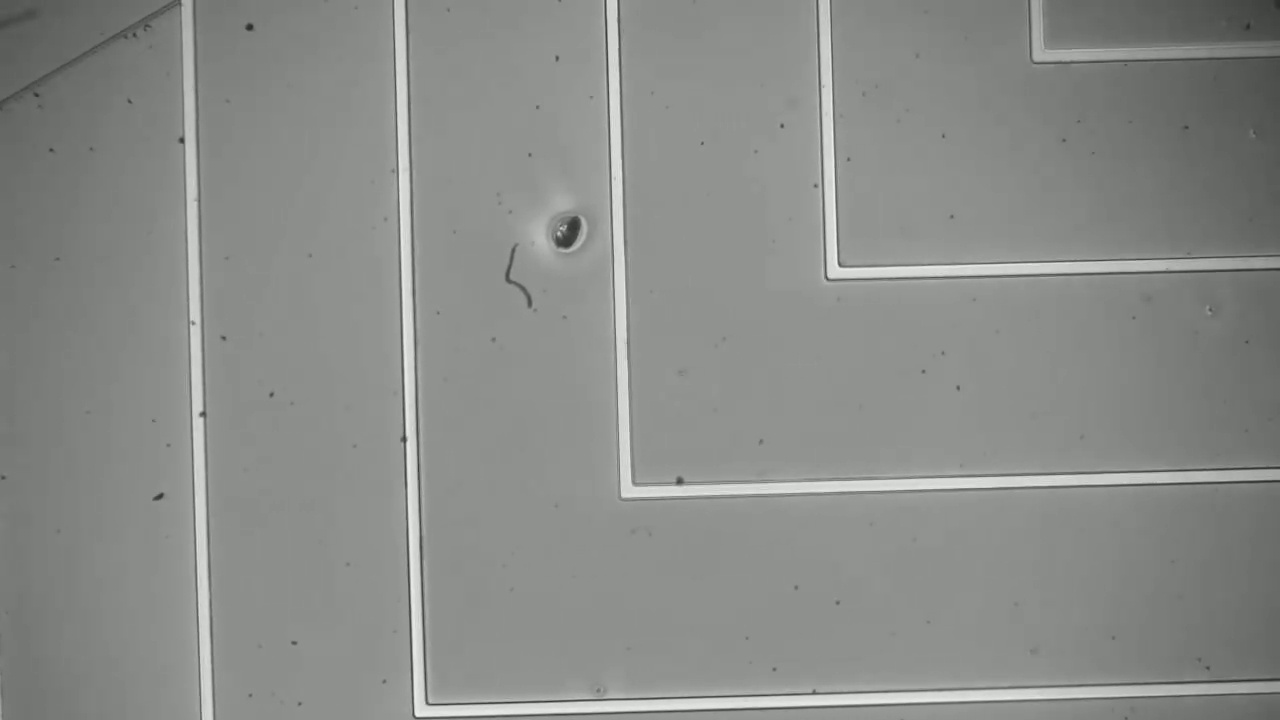scratch: (9, 1, 182, 118)
